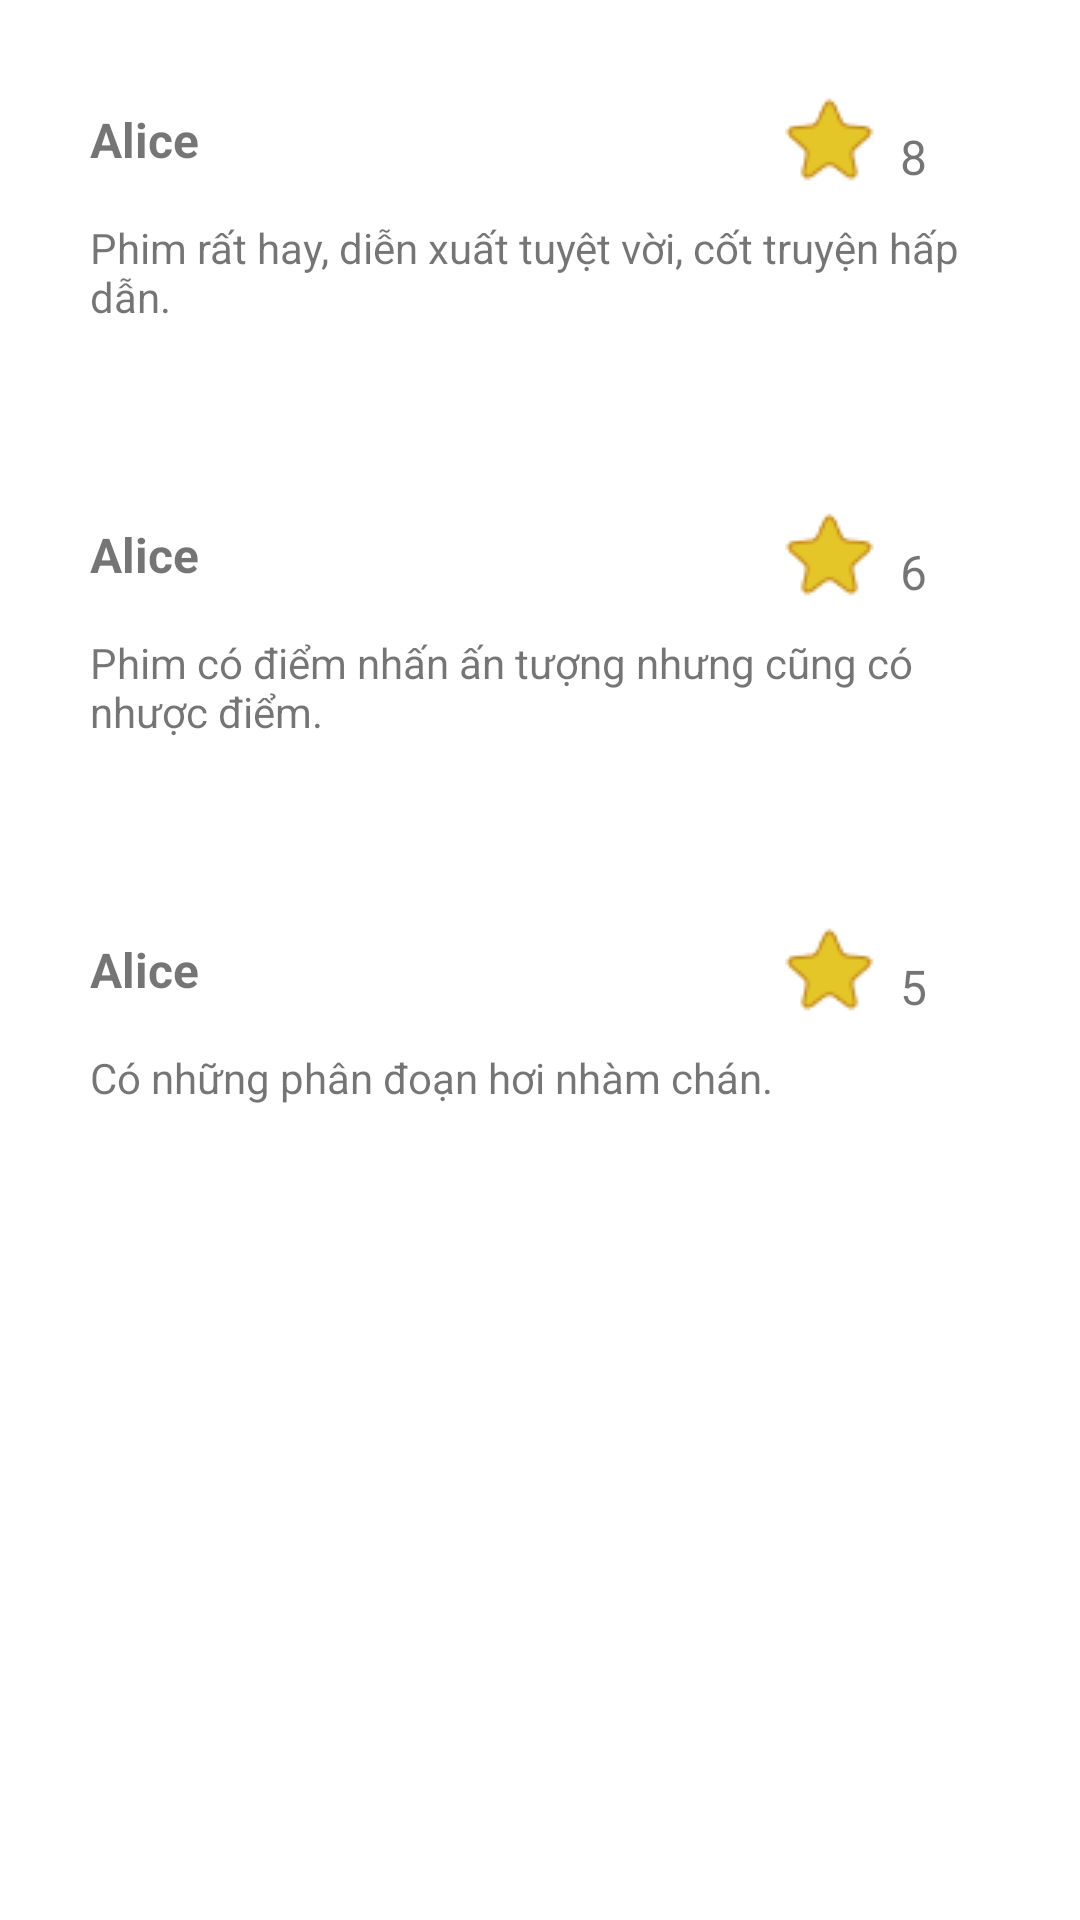

Icons on this 1080px×1920px Android screen, each with the point to tap as point (x, y):
starlight: point (829, 139), point (829, 554), point (829, 969)
